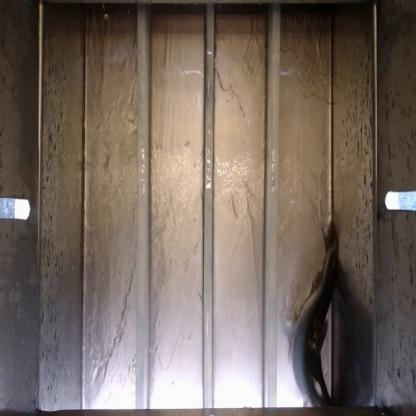pezw: (280, 212, 340, 406)
